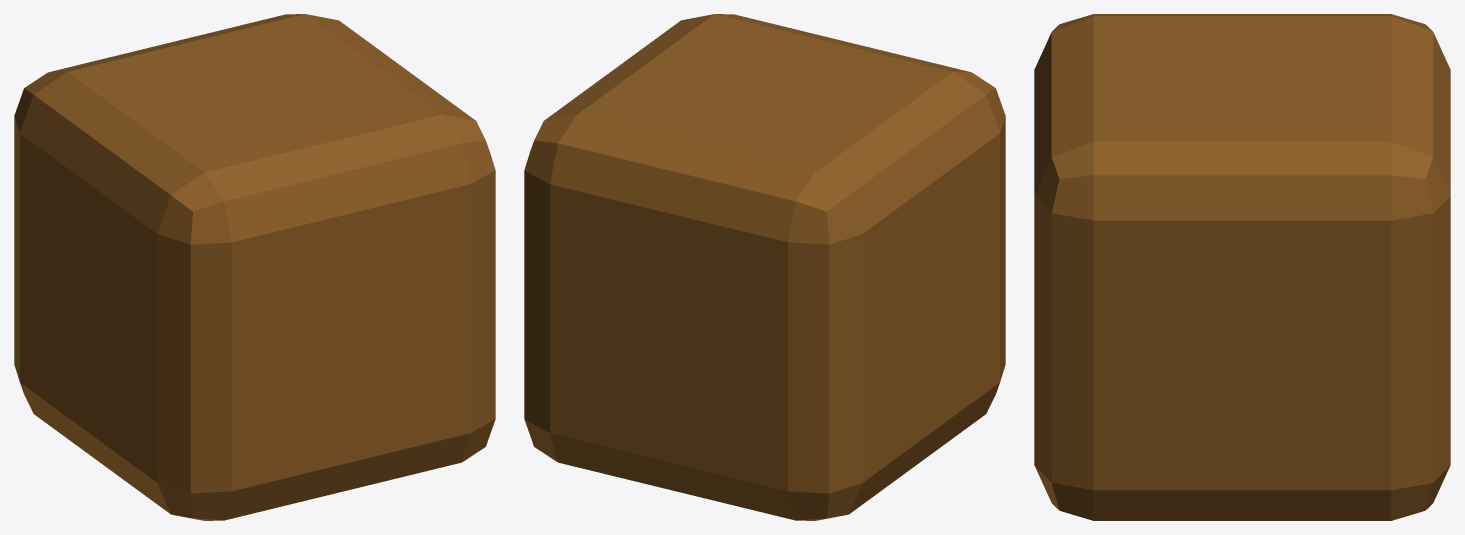
The model's file is CurryCube.fbx.
3 renders of one model, left to right at view 1: azimuth 30°, elevation 25°; view 2: azimuth 150°, elevation 25°; view 3: azimuth 270°, elevation 25°, orthographic. The views are drawn at different scales.
Parts seen in each view (by area): view 1: Cube; view 2: Cube; view 3: Cube.
Boxes of the visible parts, x1,y1,x2,y2 form: Cube: (14,14,495,520); Cube: (524,14,1005,520); Cube: (1034,14,1450,520).
Bounding box in the file's own units: 3 × 3 × 3.
